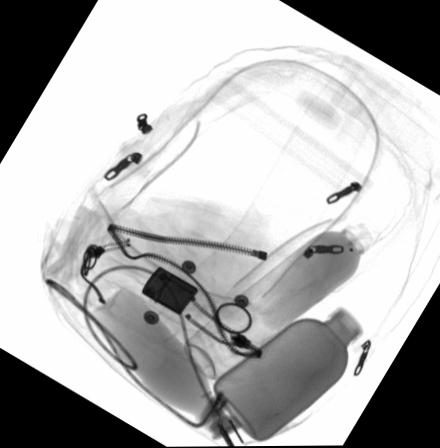Lighter: (140, 267, 196, 316)
Sprayer: (238, 216, 382, 331)
